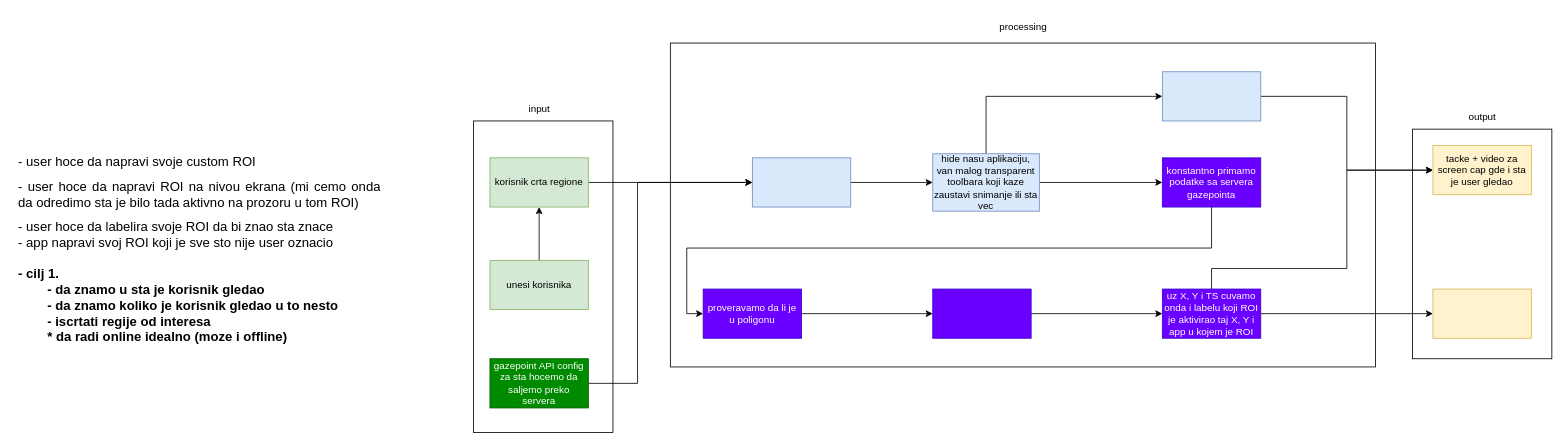
The diagram is 1566 pixels wide and 447 high, and some of its shapes have lost their labels. The centre of each missing label's shape, as x and y in pixels:
"na kraju sesije export CSV za da imamo kasnije" goes at point (1481, 313).
"napravi i snimak ekrana cele sesije koji ces sacuvati" goes at point (1211, 96).
"pocni snimanje za ove regione" goes at point (801, 182).
"u toolbaru gore kazemo sta je trenutno aktivirano od ROI" goes at point (981, 313).
